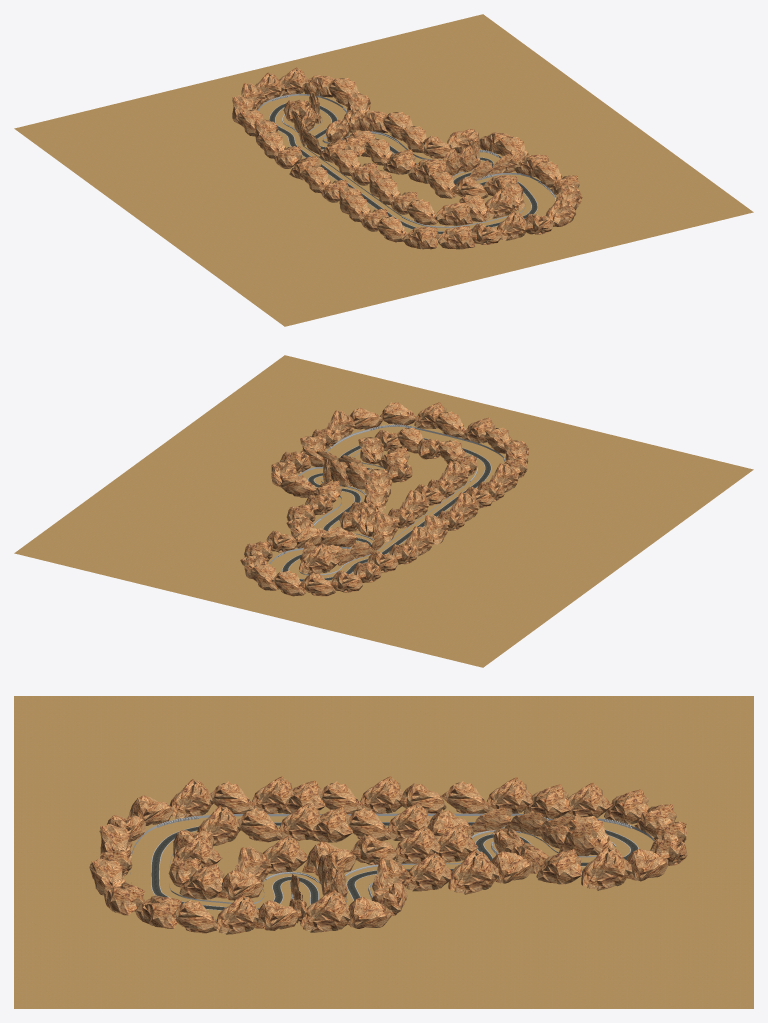
Rendered from track-3.fbx.
3 views of the same model, one above another, from view 1: azimuth 30°, elevation 25°; view 2: azimuth 150°, elevation 25°; view 3: azimuth 270°, elevation 25° (orthographic). The views are drawn at different scales.
Visible parts, largest first — view 1: pPlane1, Rocks, Racetrack, Wall1; view 2: pPlane1, Rocks, Racetrack, Wall1; view 3: pPlane1, Rocks, Racetrack, Wall2, Wall1.
Part boxes in pixels (x1,y1,x2,y2): pPlane1: (14, 14, 753, 326); Rocks: (232, 67, 582, 249); Racetrack: (269, 103, 537, 233); Wall1: (257, 93, 556, 200); pPlane1: (14, 355, 753, 667); Rocks: (240, 402, 529, 596); Racetrack: (282, 438, 491, 581); Wall1: (269, 424, 503, 564); pPlane1: (14, 696, 753, 1008); Rocks: (89, 776, 687, 934); Racetrack: (151, 822, 638, 910); Wall2: (169, 827, 616, 903); Wall1: (130, 813, 654, 920).
Size of what is drawn, in the model's own units: 153408 by 11556 by 153408.
